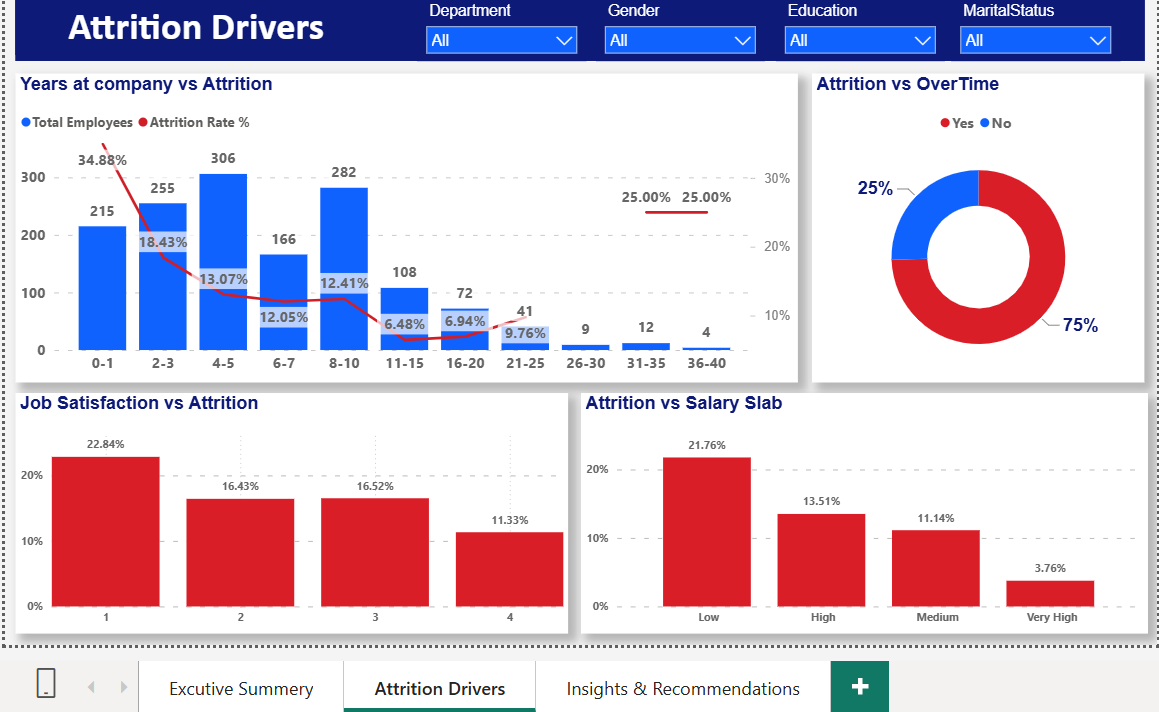

What the dashboard file says about the page in this screenshot:
{"tool":"powerbi","page":{"name":"Attrition Drivers","canvas":[1280,720],"ordinal":1},"visuals":[{"type":"lineClusteredColumnComboChart","title":"Years at company vs Attrition","fields":{"Category":["ibm_hr employee_attrition_dataset.Tenure Group"],"Y":["ibm_hr employee_attrition_dataset.Total Employees"],"Y2":["ibm_hr employee_attrition_dataset.Attrition Rate %"]},"box":[11.3,84.2,869.5,343.3],"z":0},{"type":"donutChart","title":"Attrition  vs OverTime","fields":{"Category":["ibm_hr employee_attrition_dataset.OverTime"],"Y":["ibm_hr employee_attrition_dataset.Attrition Rate %"]},"box":[897.1,84.2,369.2,343],"z":1000},{"type":"clusteredColumnChart","title":"Job Satisfaction vs Attrition","fields":{"Category":["ibm_hr employee_attrition_dataset.JobSatisfaction"],"Y":["ibm_hr employee_attrition_dataset.Attrition Rate %"]},"box":[11.3,440.4,613.7,267.2],"z":2000},{"type":"clusteredColumnChart","title":"Attrition vs Salary Slab","fields":{"Category":["ibm_hr employee_attrition_dataset.Salary_Slab"],"Y":["ibm_hr employee_attrition_dataset.Attrition Rate %"]},"box":[639.6,440.4,630,267.2],"z":3000},{"type":"shape","title":"Attrition Drivers","box":[11.3,1.6,1254.9,69.6],"z":4000},{"type":"group","id":"g1","title":"Group 1","box":[458.2,0,780.4,71.2],"z":5000},{"type":"textbox","box":[12,0,402,64],"z":5001},{"type":"slicer","fields":{"Values":["ibm_hr employee_attrition_dataset.Department"]},"box":[458.2,0,187.3,71.2],"z":12000,"group":"g1"},{"type":"slicer","fields":{"Values":["ibm_hr employee_attrition_dataset.MaritalStatus"]},"box":[1051.6,0,187,71.2],"z":12500,"group":"g1"},{"type":"slicer","fields":{"Values":["ibm_hr employee_attrition_dataset.Gender"]},"box":[655.7,0,187.3,71.2],"z":13000,"group":"g1"},{"type":"slicer","fields":{"Values":["ibm_hr employee_attrition_dataset.Education"]},"box":[856.3,0,187.3,71],"z":15000,"group":"g1"}]}

Visuals, with their boxes on the page's 1280x720 design canvas (x1, y1, x2, y2). These are canvas units, not pixel positions in the 1159x712 screenshot, which may show the page scaled, cropped or inside an application window:
"Years at company vs Attrition" lineClusteredColumnComboChart: bbox=(11, 84, 881, 428)
"Attrition  vs OverTime" donutChart: bbox=(897, 84, 1266, 427)
"Job Satisfaction vs Attrition" clusteredColumnChart: bbox=(11, 440, 625, 708)
"Attrition vs Salary Slab" clusteredColumnChart: bbox=(640, 440, 1270, 708)
"Attrition Drivers" shape: bbox=(11, 2, 1266, 71)
"Group 1" group: bbox=(458, 0, 1239, 71)
textbox: bbox=(12, 0, 414, 64)
slicer - ibm_hr employee_attrition_dataset.Department: bbox=(458, 0, 646, 71)
slicer - ibm_hr employee_attrition_dataset.MaritalStatus: bbox=(1052, 0, 1239, 71)
slicer - ibm_hr employee_attrition_dataset.Gender: bbox=(656, 0, 843, 71)
slicer - ibm_hr employee_attrition_dataset.Education: bbox=(856, 0, 1044, 71)
